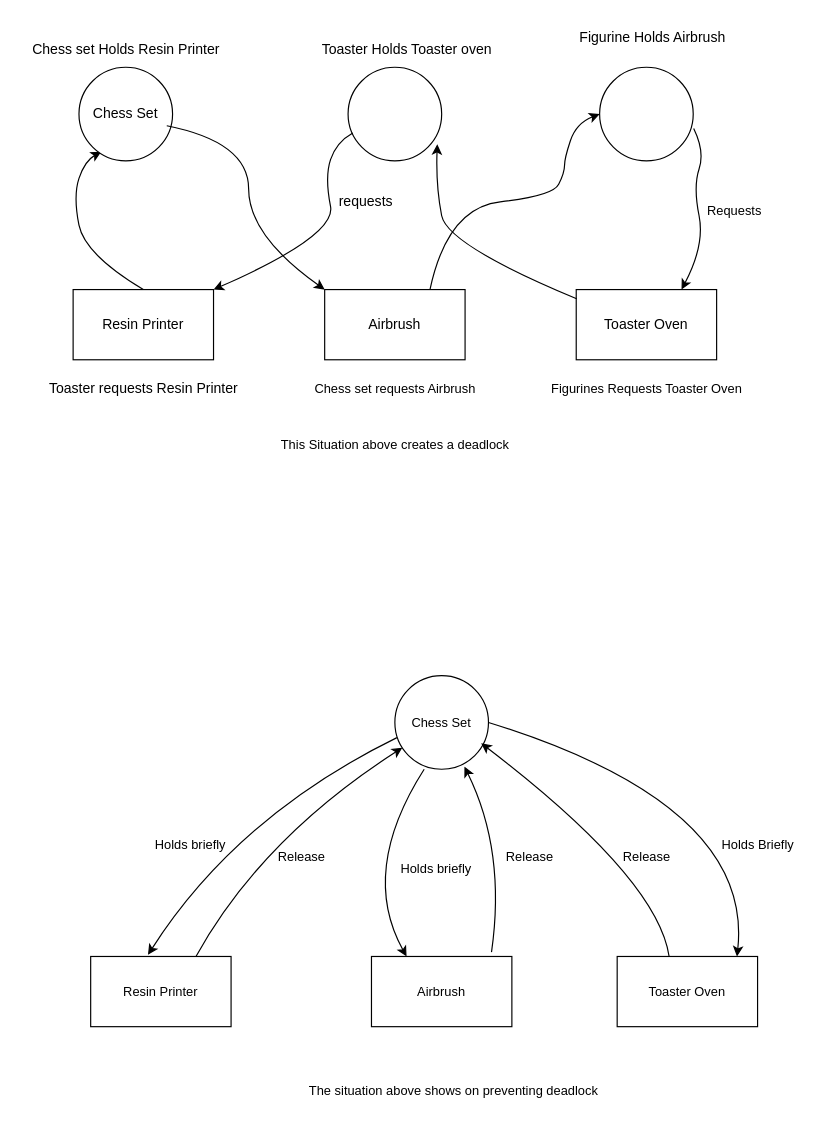
Some shapes in this 830 by 1128 pixel diagram are drawn without their labels. The shapes that lost their labels are listed below. From the top down, each one's centre as x and y in pixels, then its label:
point (394, 113): Toaster
point (645, 113): Figurine
